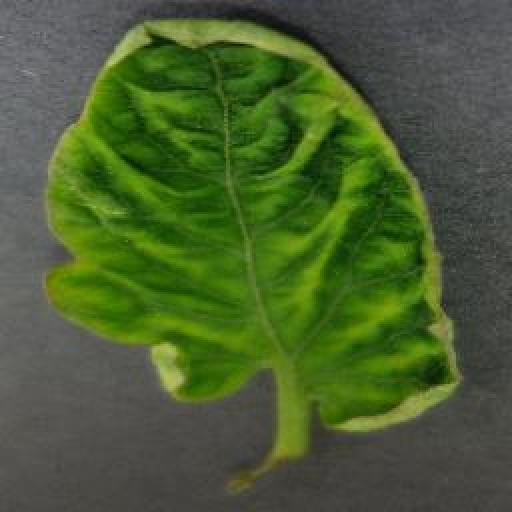disease_tomato: (43, 15, 461, 433)
